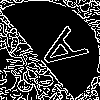A: (25, 25, 90, 79)
